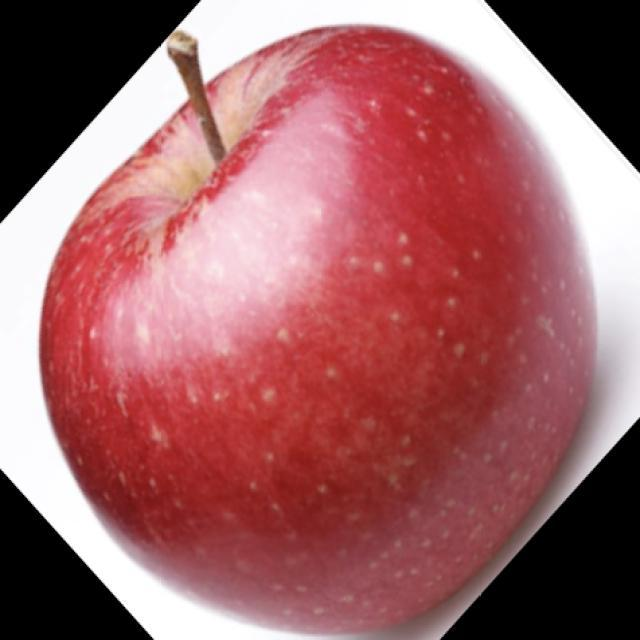Apple: (37, 22, 599, 636)
